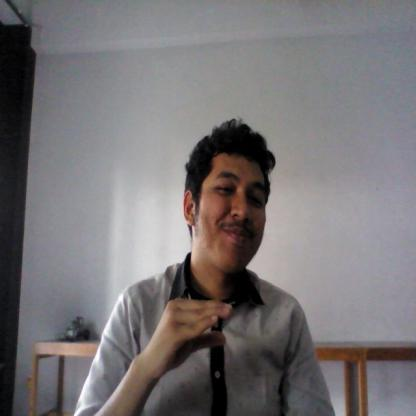Pagi: (142, 291, 236, 383)
